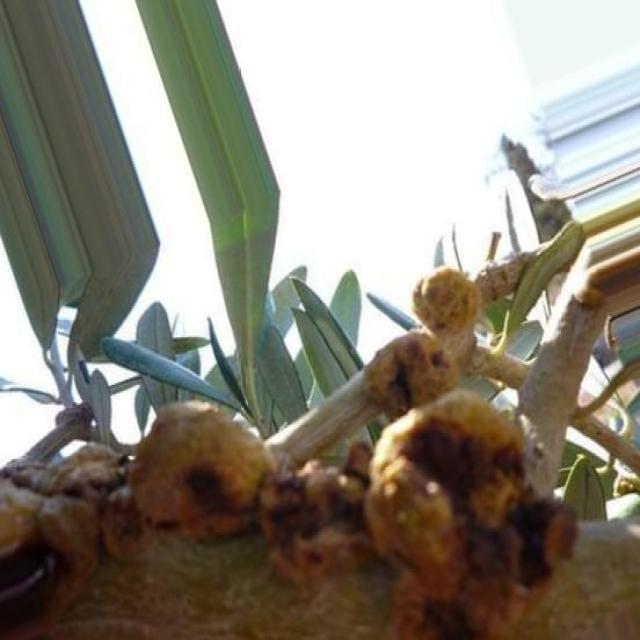Tuberculosis: (0, 401, 376, 638), (365, 396, 576, 638), (362, 255, 528, 417)
